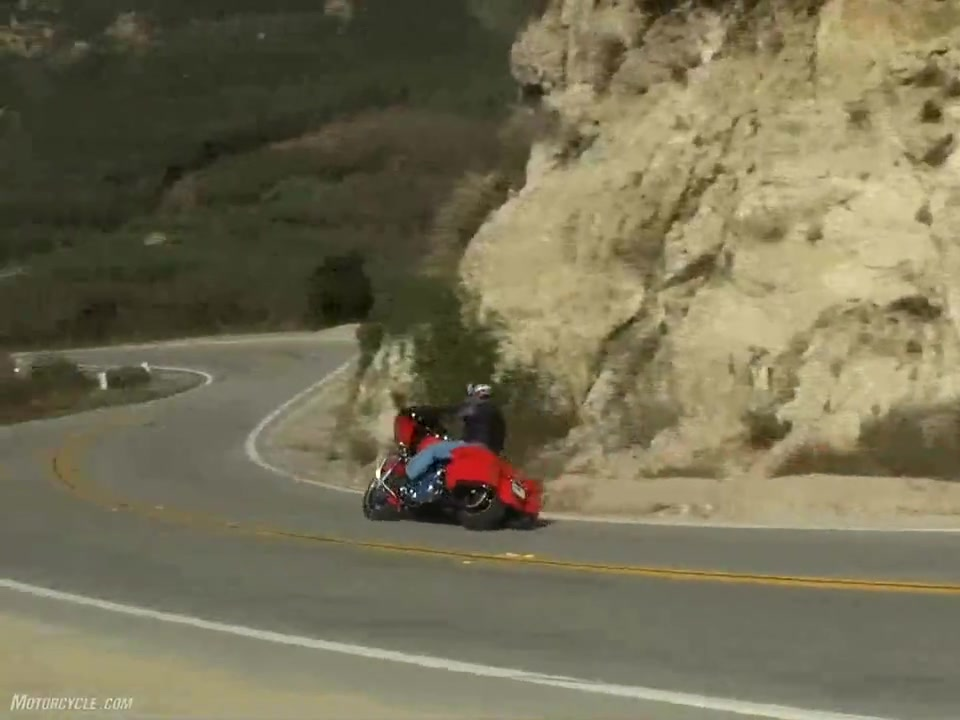motorbike: (363, 404, 546, 528)
